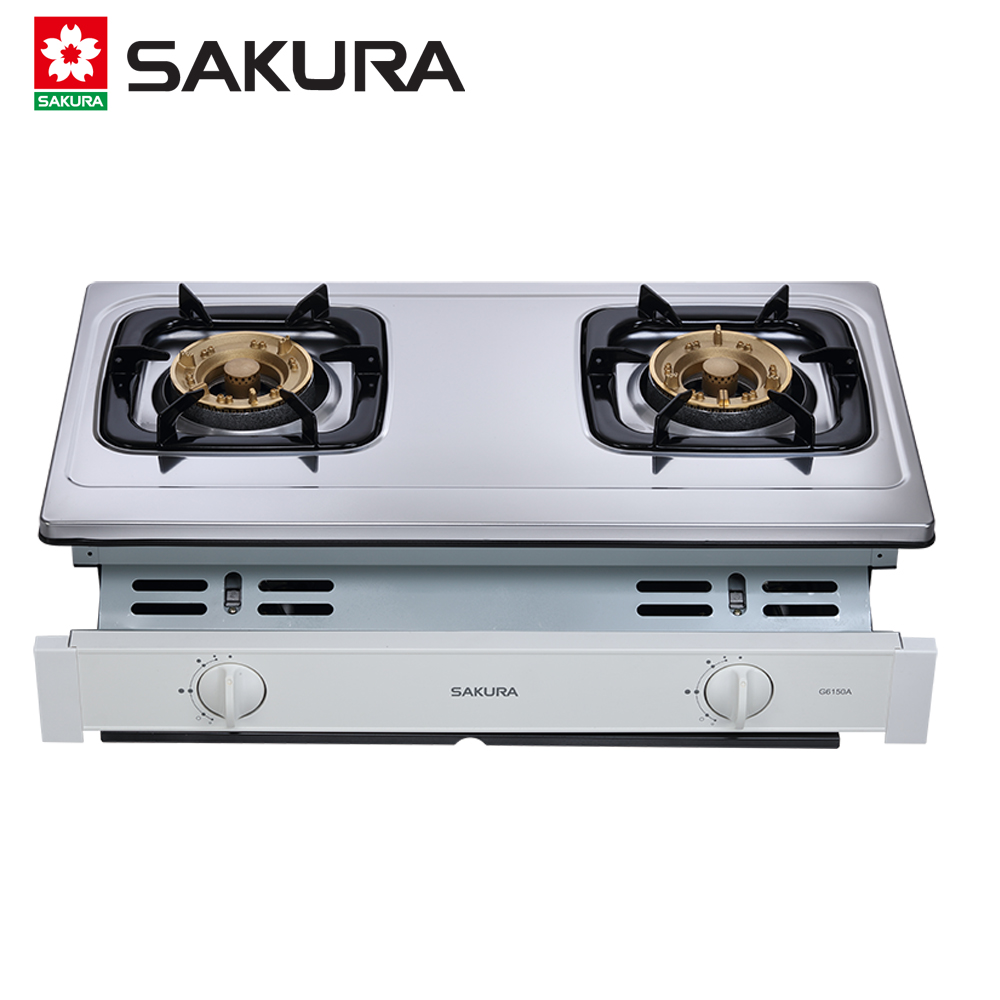gasoven: (34, 273, 950, 760)
